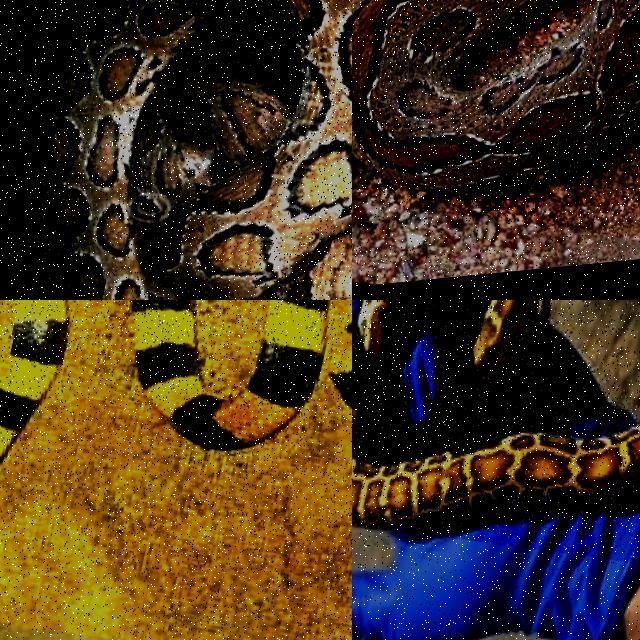Bungarus fasciatus: (131, 300, 328, 449)
Daboia siamensis: (52, 0, 351, 299), (352, 0, 639, 194)
Python bivittatus: (352, 300, 639, 528)
